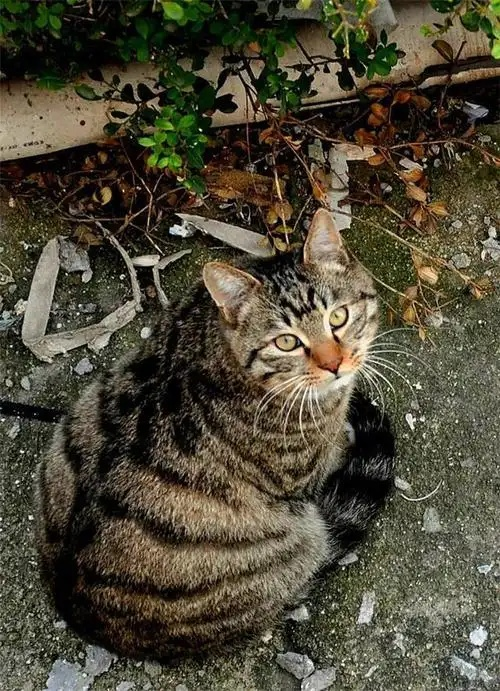狸花猫: (42, 210, 378, 654)
